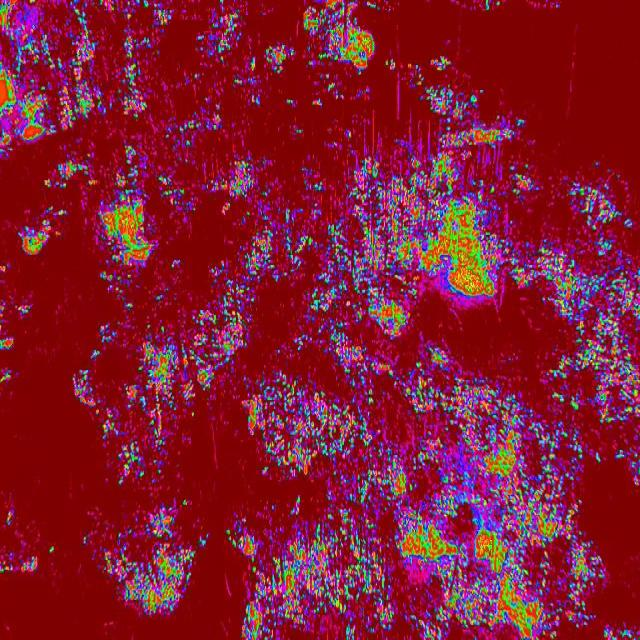fire: (372, 55, 539, 640), (225, 145, 372, 640), (0, 0, 372, 145), (538, 168, 640, 483), (71, 294, 224, 424), (90, 498, 210, 618), (540, 482, 605, 640), (49, 156, 220, 212), (91, 213, 161, 294), (94, 423, 172, 482), (19, 210, 68, 266), (0, 551, 39, 579), (0, 300, 12, 386), (5, 506, 18, 530), (18, 299, 31, 317)
